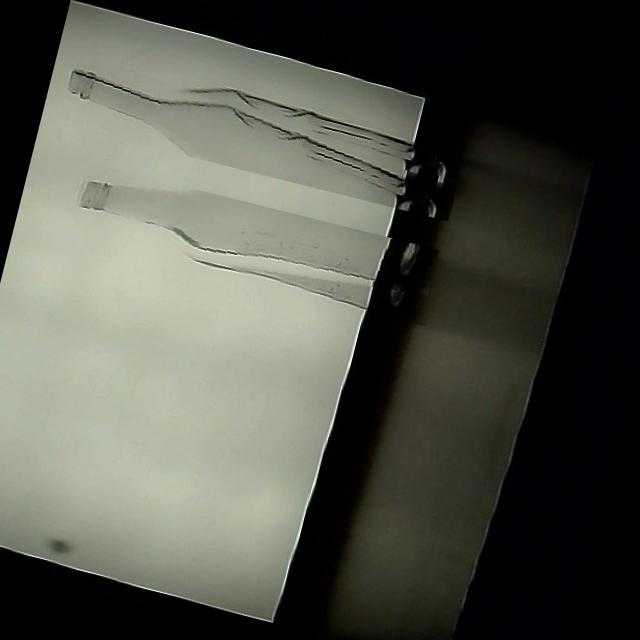Glass: (58, 49, 466, 220), (62, 160, 439, 328)
